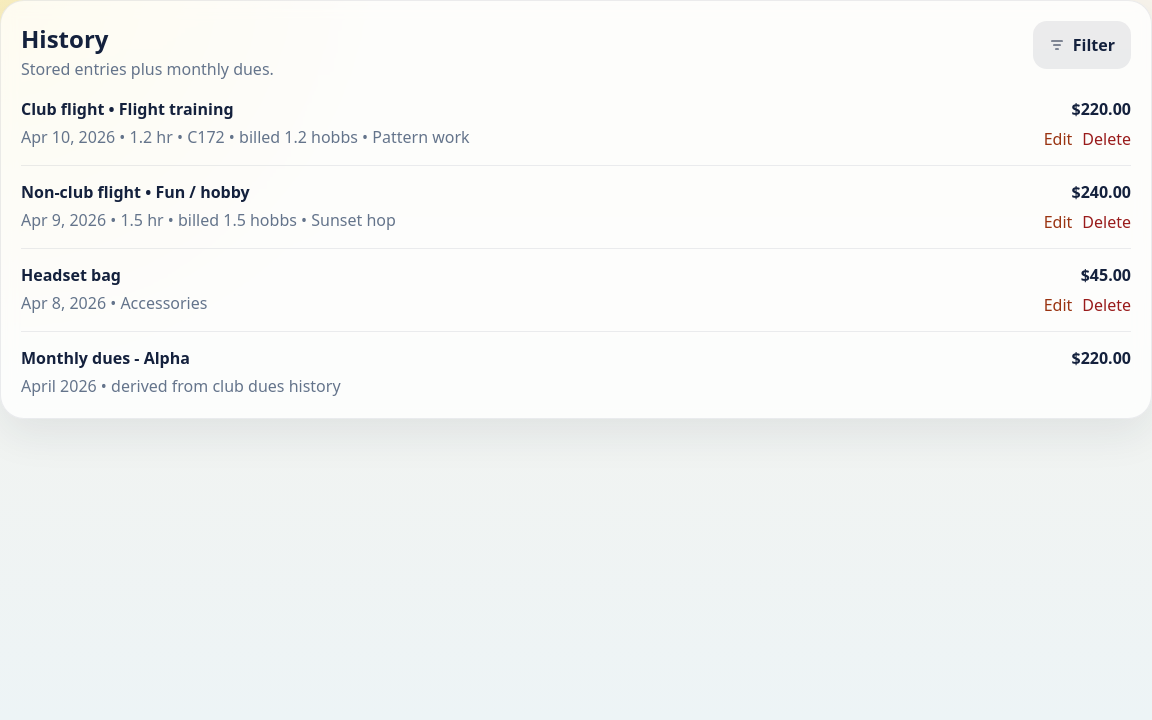
HistoryPage › filters the list by entry type for dues and other expenses
This screenshot has width=1152, height=720.
Click the button "Filter": click(1082, 45) 1033,21 -> 1131,69
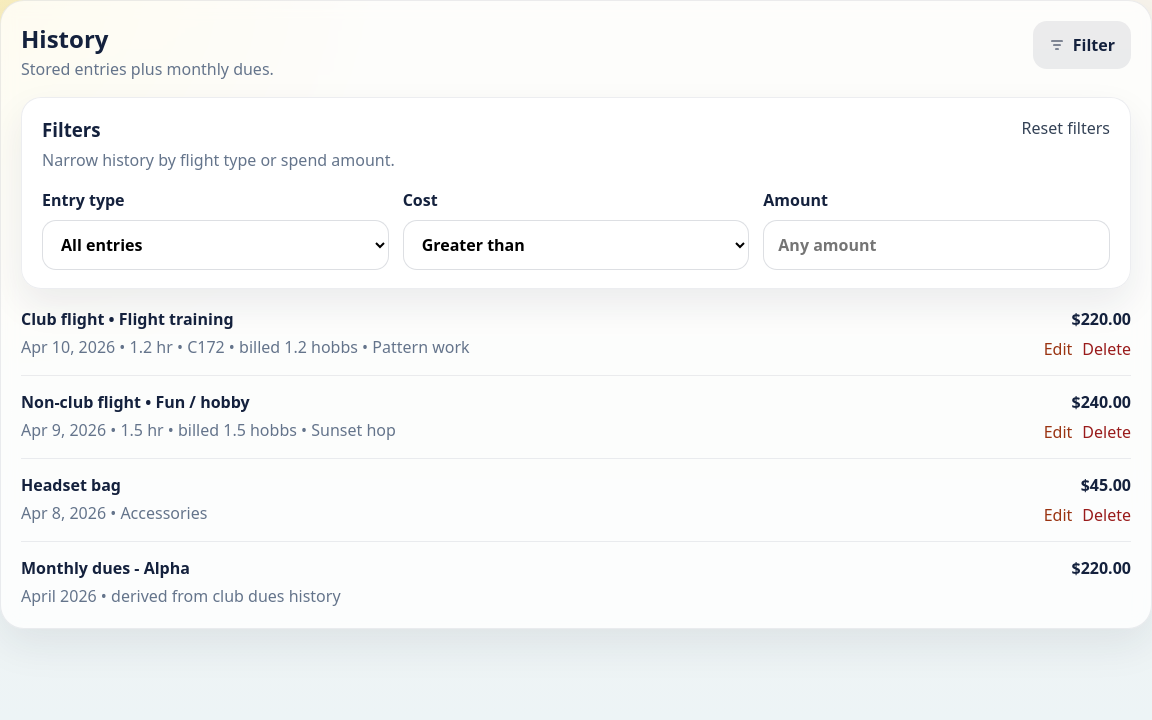
Select "Club dues" in the dropdown labelled "Entry type": (215, 245) 42,220 -> 389,270
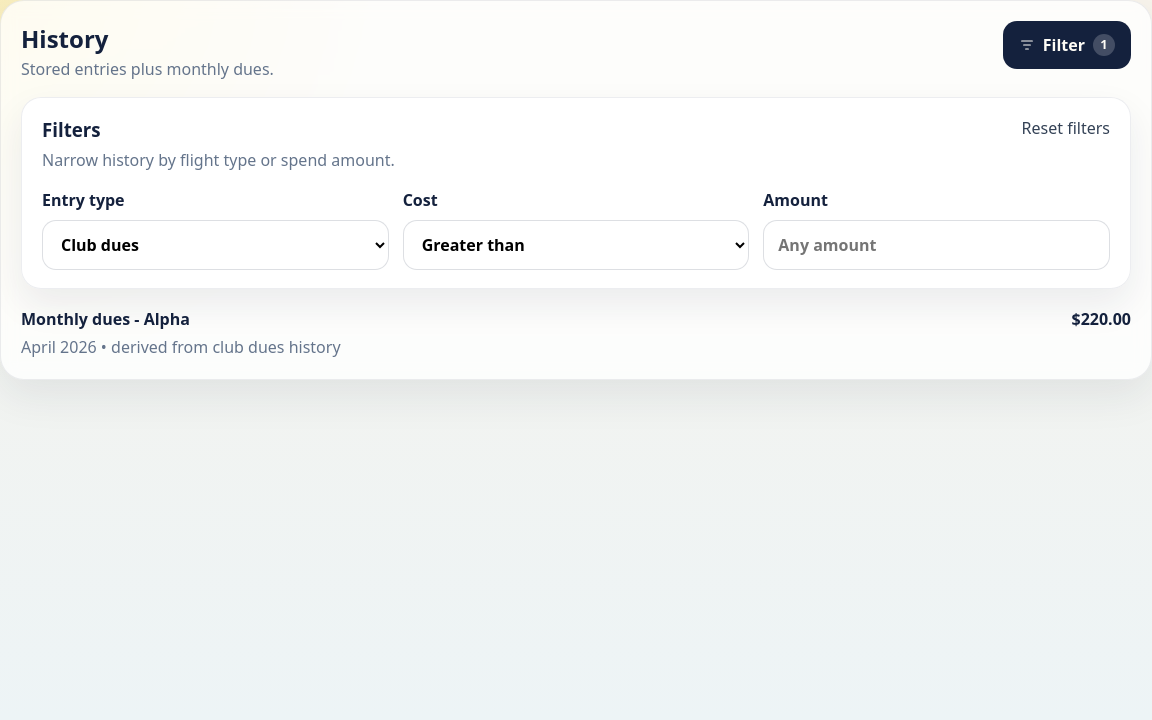
Expected: the text "Club flight" is gone
Expected: the text "Non-club flight" is gone
Expected: the text "Headset bag" is gone
Select "Other expenses" in the dropdown labelled "Entry type": (215, 245) 42,220 -> 389,270
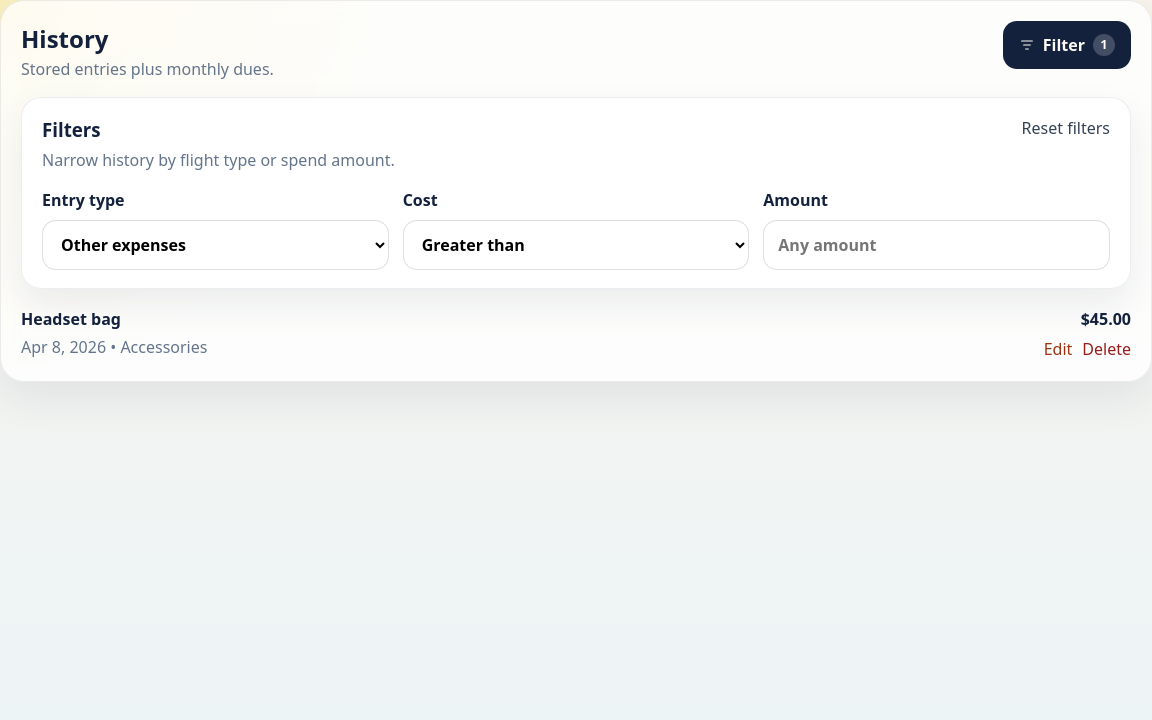
Expected: the text "Club flight" is not shown
Expected: the text "Headset bag" is shown, 21,308 -> 121,330
Expected: the text "Monthly dues - Alpha" is gone
